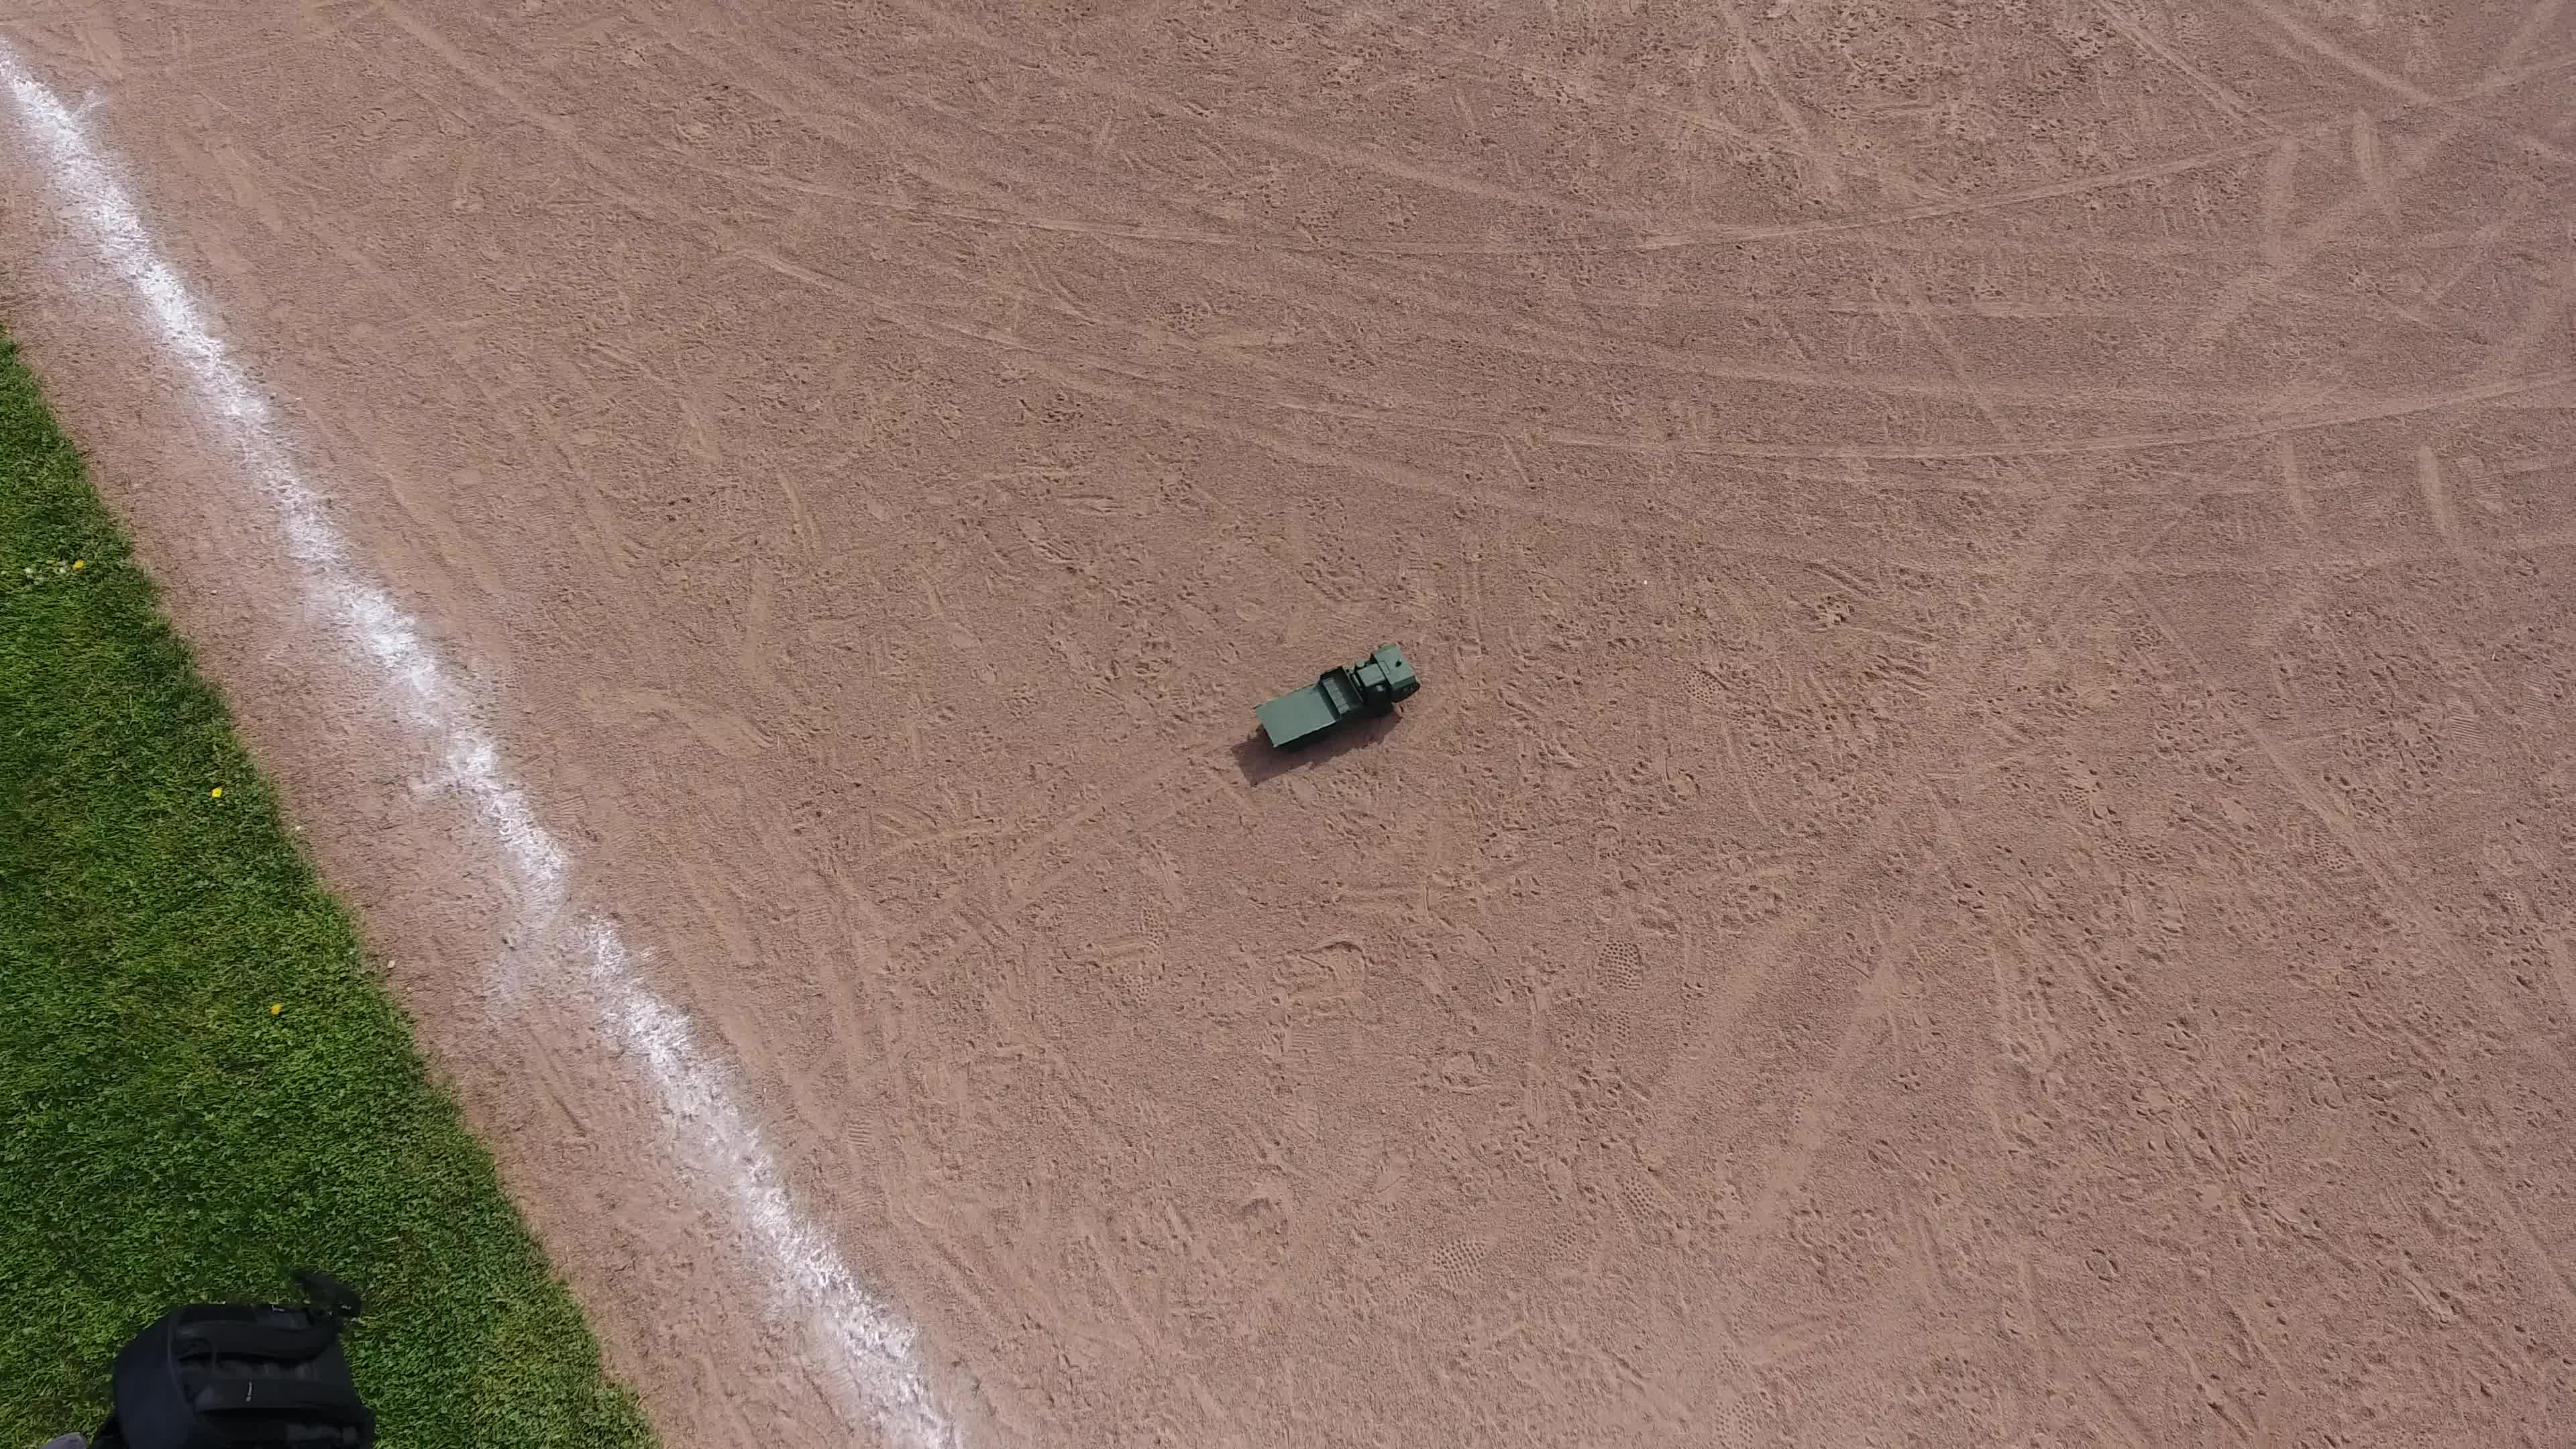transporter9: (1249, 639, 1424, 763)
